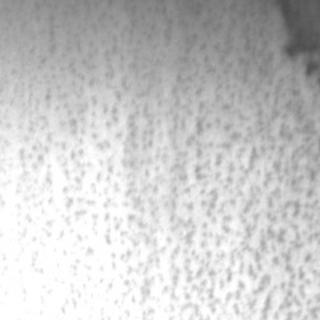patches: (278, 0, 318, 76)
pitted_surface: (21, 13, 299, 315)
